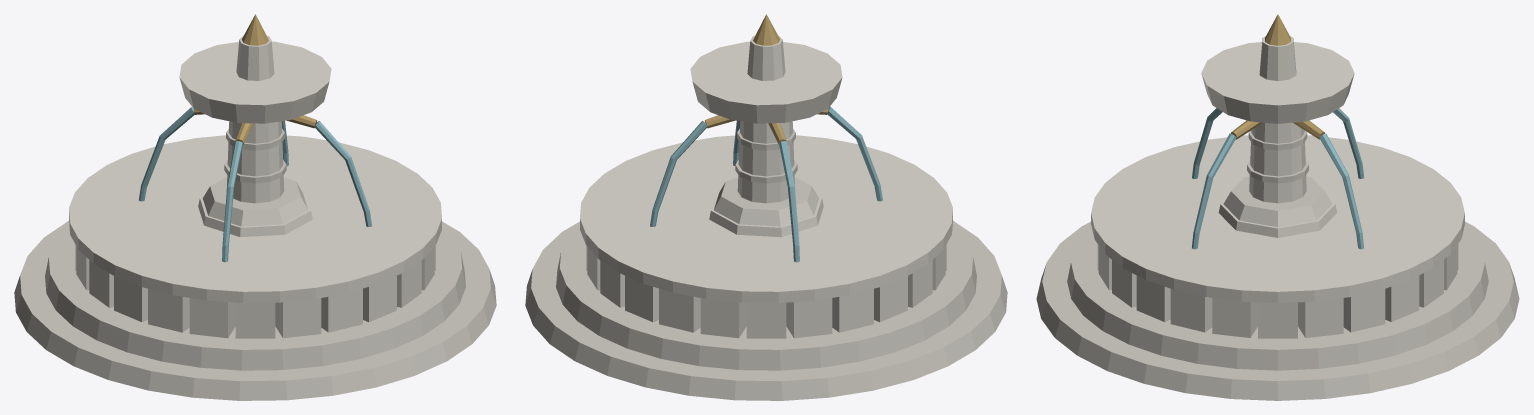
The model's file is town_well_t3.glb.
3 renders of one model, left to right at view 1: azimuth 30°, elevation 25°; view 2: azimuth 150°, elevation 25°; view 3: azimuth 270°, elevation 25°, orthographic.
Visible parts, largest first — view 1: well_t3_stone, well_t3_stone2, well_t3_water, well_t3_iron; view 2: well_t3_stone, well_t3_stone2, well_t3_water, well_t3_iron; view 3: well_t3_stone, well_t3_stone2, well_t3_water, well_t3_iron.
Boxes of the visible parts, bbox=[...] form: well_t3_stone: bbox=[69, 35, 441, 338]; well_t3_stone2: bbox=[14, 128, 496, 400]; well_t3_water: bbox=[139, 107, 372, 262]; well_t3_iron: bbox=[193, 14, 317, 145]; well_t3_stone: bbox=[580, 35, 952, 338]; well_t3_stone2: bbox=[525, 128, 1007, 400]; well_t3_water: bbox=[650, 106, 882, 262]; well_t3_iron: bbox=[704, 14, 828, 145]; well_t3_stone: bbox=[1091, 36, 1464, 338]; well_t3_stone2: bbox=[1036, 130, 1519, 400]; well_t3_water: bbox=[1192, 108, 1364, 249]; well_t3_iron: bbox=[1231, 14, 1324, 139].
Size of the model in its own units: 2.52 by 1.64 by 2.52.
